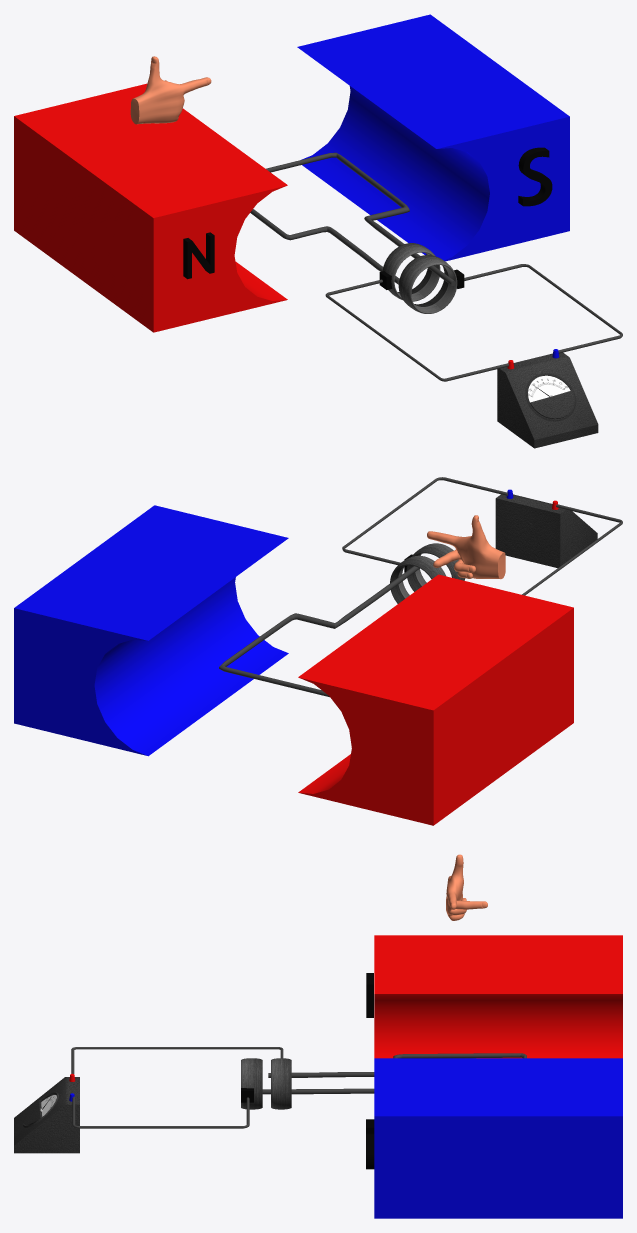
The picture shows the model from 3 angles, top to bottom: view 1: azimuth 30°, elevation 25°; view 2: azimuth 150°, elevation 25°; view 3: azimuth 270°, elevation 25°; orthographic projection. The views are drawn at different scales.
Visible parts, largest first — view 1: polySurface2, polySurface1, galvano_meter:pCube2, pCylinder36, typeMesh9, steal_1, steal_2, typeMesh11, pCylinder4, typeMesh10, pCylinder6.001; view 2: polySurface2, polySurface1, galvano_meter:pCube2, typeMesh9, pCylinder36, steal_2, pCylinder6.001, steal_1, pCylinder4; view 3: polySurface1, polySurface2, galvano_meter:pCube2, pCylinder36, typeMesh9, steal_2, steal_1, pCylinder4, pCylinder6.001.
Boxes of the visible parts, left/top/right/bottom form: polySurface2: left=14, top=83, right=287, bottom=332; polySurface1: left=297, top=14, right=569, bottom=261; galvano_meter:pCube2: left=497, top=352, right=598, bottom=448; pCylinder36: left=250, top=152, right=455, bottom=285; typeMesh9: left=130, top=56, right=211, bottom=124; steal_1: left=398, top=255, right=457, bottom=313; steal_2: left=382, top=243, right=440, bottom=301; typeMesh11: left=518, top=147, right=552, bottom=206; pCylinder4: left=325, top=279, right=508, bottom=381; typeMesh10: left=183, top=232, right=214, bottom=279; pCylinder6.001: left=464, top=264, right=622, bottom=353; polySurface2: left=298, top=574, right=573, bottom=825; polySurface1: left=14, top=505, right=288, bottom=756; galvano_meter:pCube2: left=495, top=494, right=597, bottom=568; typeMesh9: left=427, top=515, right=505, bottom=579; pCylinder36: left=219, top=566, right=419, bottom=697; steal_2: left=390, top=555, right=445, bottom=603; pCylinder6.001: left=342, top=477, right=507, bottom=565; steal_1: left=406, top=543, right=465, bottom=591; pCylinder4: left=522, top=504, right=622, bottom=595; polySurface1: left=374, top=1058, right=622, bottom=1218; polySurface2: left=374, top=935, right=622, bottom=1058; galvano_meter:pCube2: left=14, top=1077, right=79, bottom=1153; pCylinder36: left=262, top=1053, right=526, bottom=1094; typeMesh9: left=446, top=854, right=487, bottom=920; steal_2: left=271, top=1058, right=291, bottom=1109; steal_1: left=241, top=1058, right=262, bottom=1109; pCylinder4: left=71, top=1047, right=283, bottom=1073; pCylinder6.001: left=72, top=1096, right=249, bottom=1128.
Size of what is drawn, in the model's own units: 5.63 by 3.1 by 8.
Materials: 13 (2 with a texture image).
